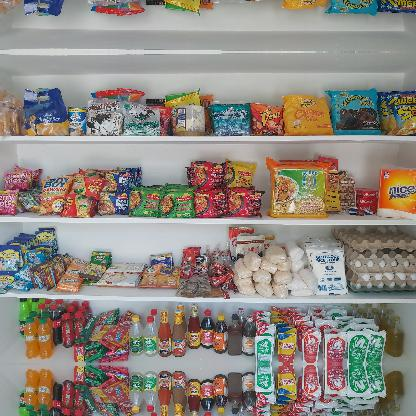Koko-Krunch: (174, 104, 206, 135)
